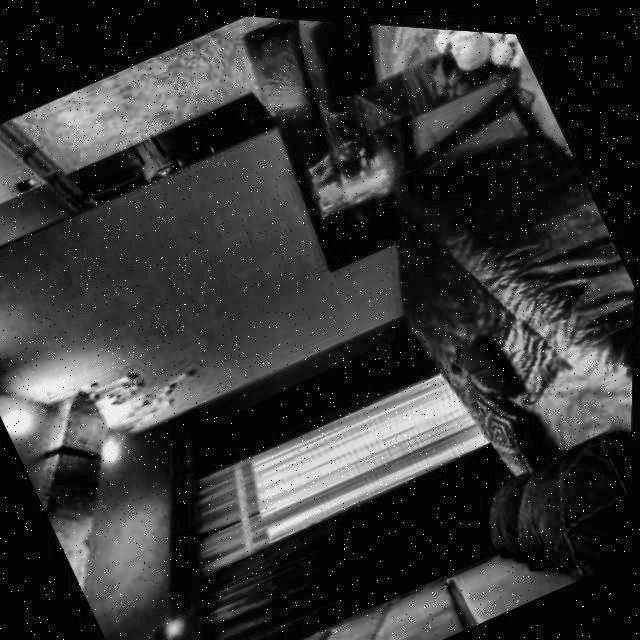Fire: (323, 138, 407, 214)
